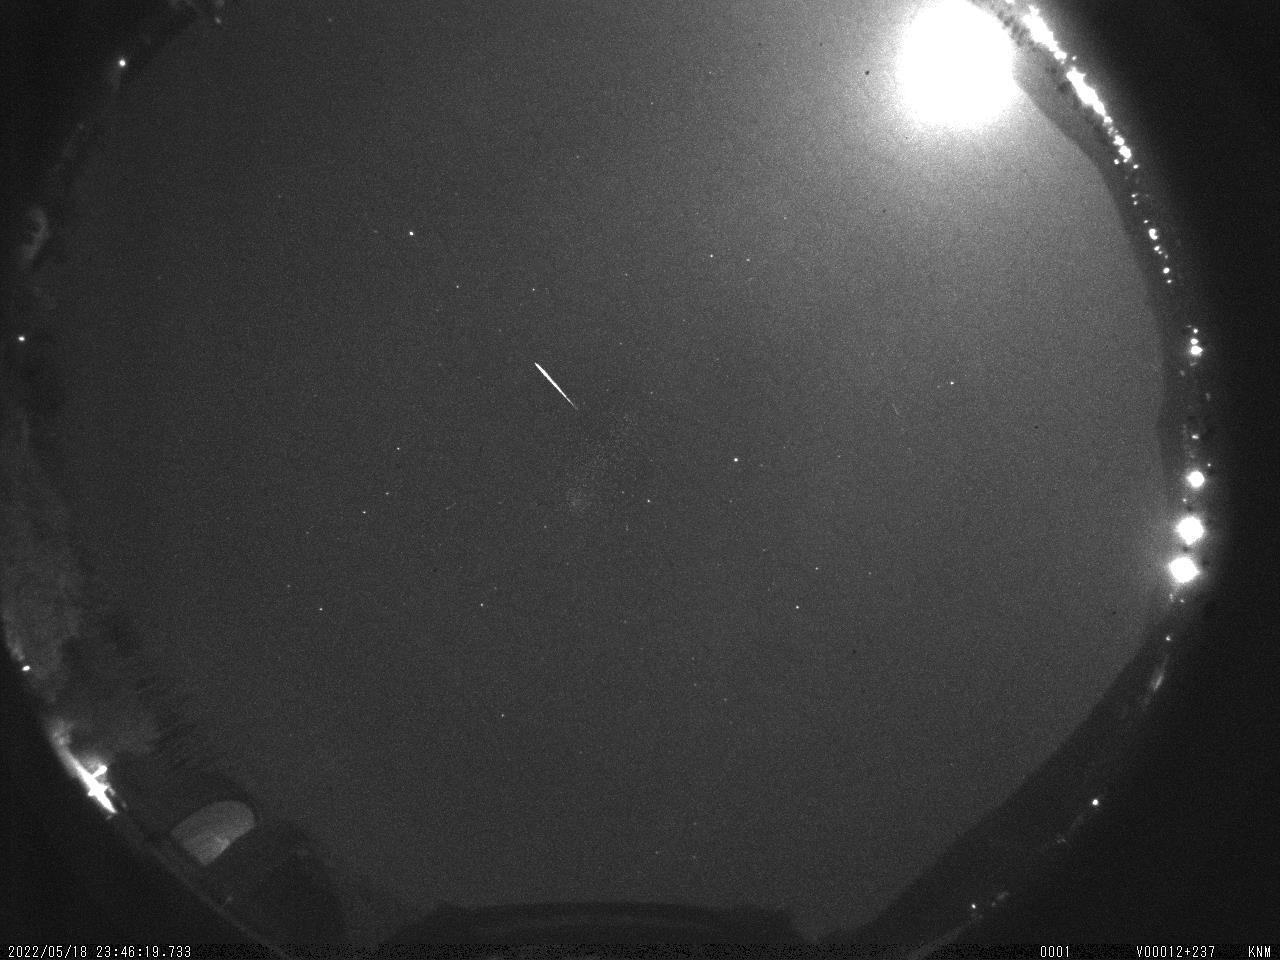Meteor: (532, 357, 580, 411)
